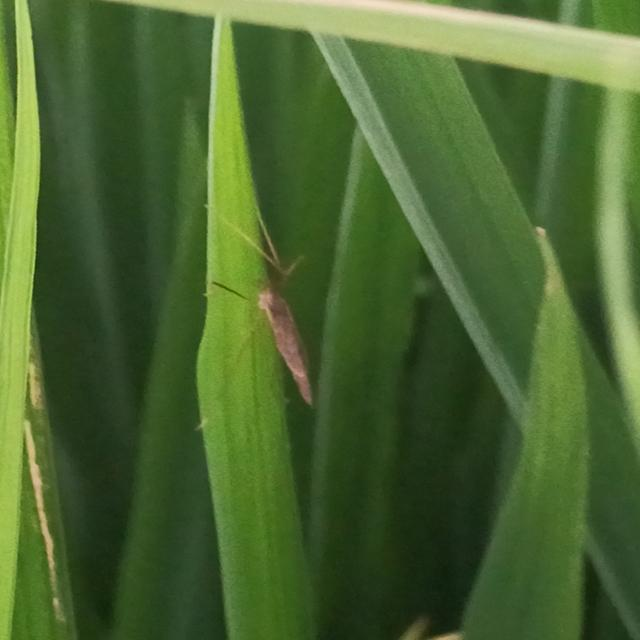Narrow brown: (191, 184, 330, 423)
